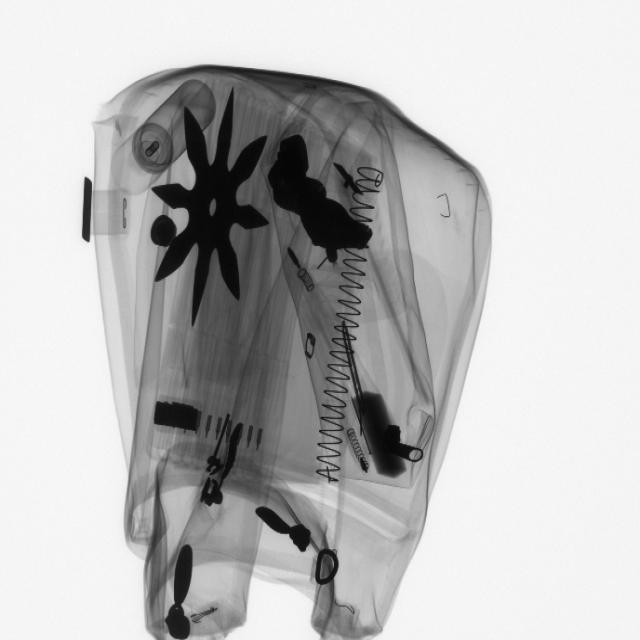BLADE: (343, 321, 370, 415)
SHURIKEN: (154, 86, 273, 331)
